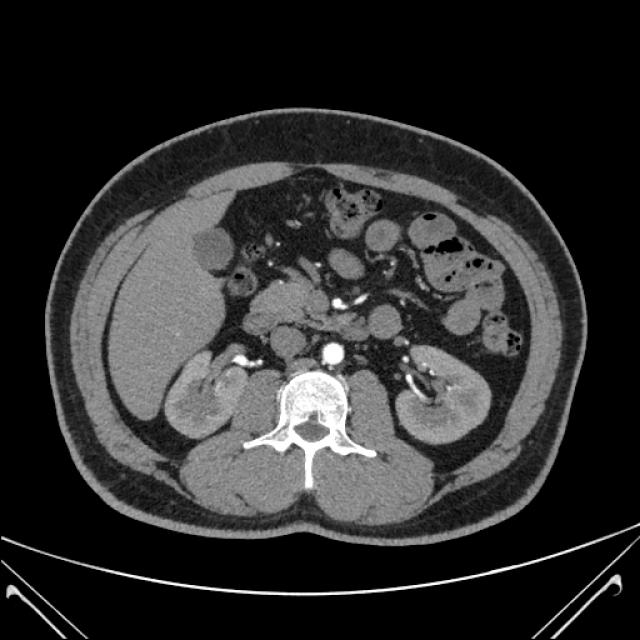Kidney: (4, 43, 602, 515)
